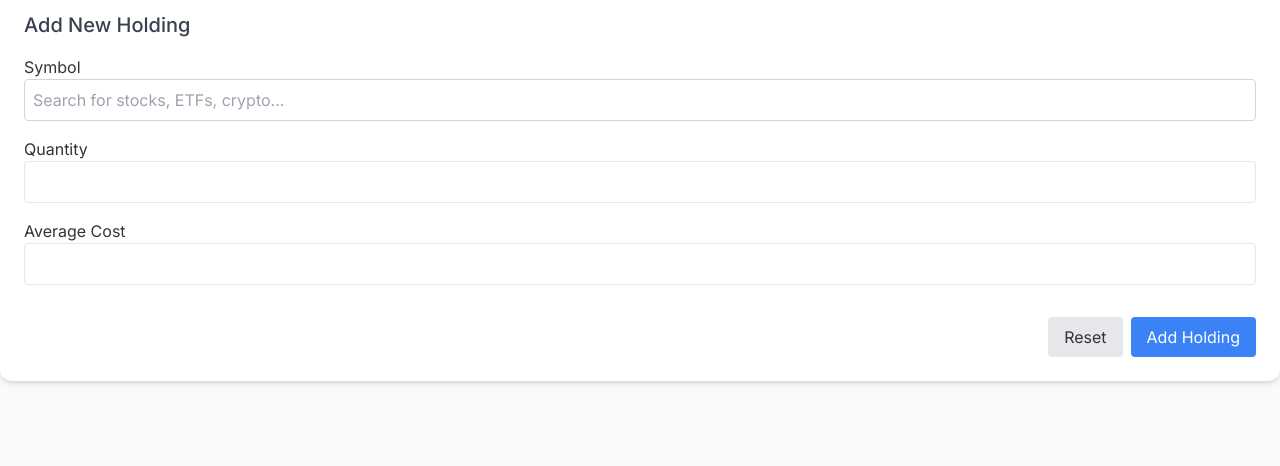
Test case: AddHoldingForm › validates number inputs
In the number field labelled "Quantity": (640, 182) top-left (24, 161), bottom-right (1256, 203), type "-10"
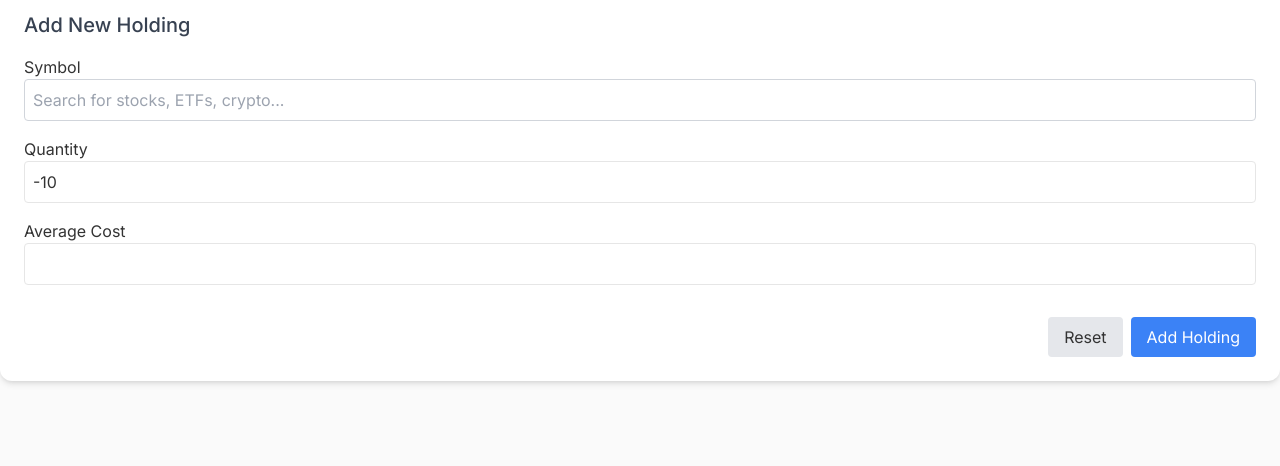
In the number field labelled "Average Cost": (640, 264) top-left (24, 243), bottom-right (1256, 285), type "0"
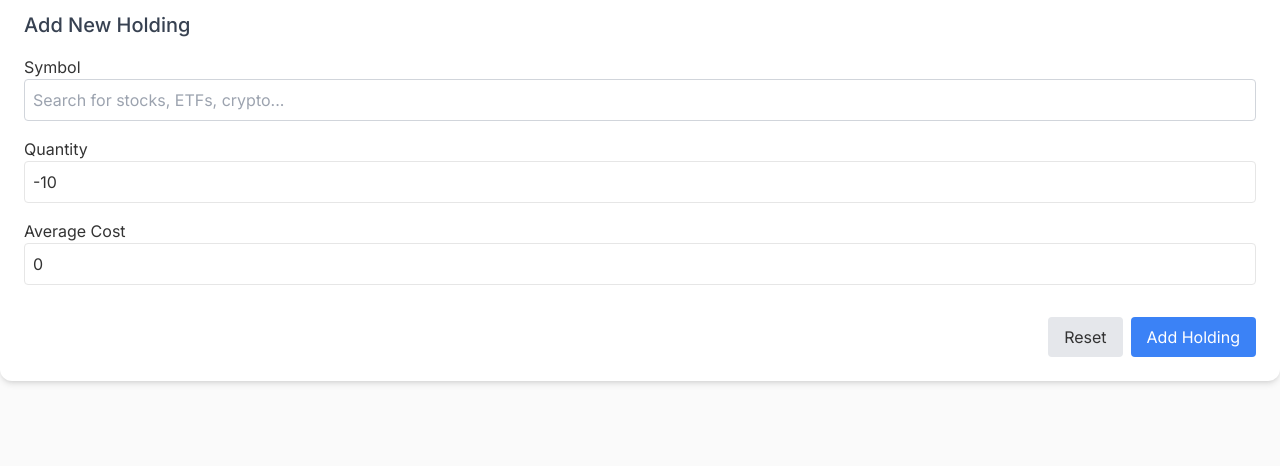
Click the button "Add Holding": (1193, 337) top-left (1131, 317), bottom-right (1256, 357)
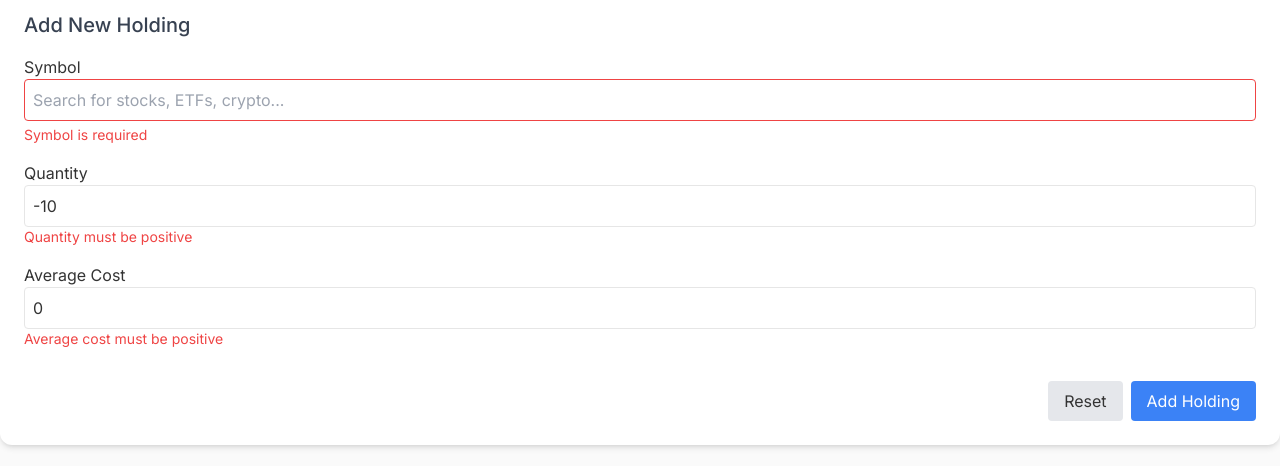
Result: the text "Quantity must be positive" is shown at top-left (24, 228), bottom-right (192, 245)
Result: the text "Average cost must be positive" is shown at top-left (24, 330), bottom-right (223, 347)
